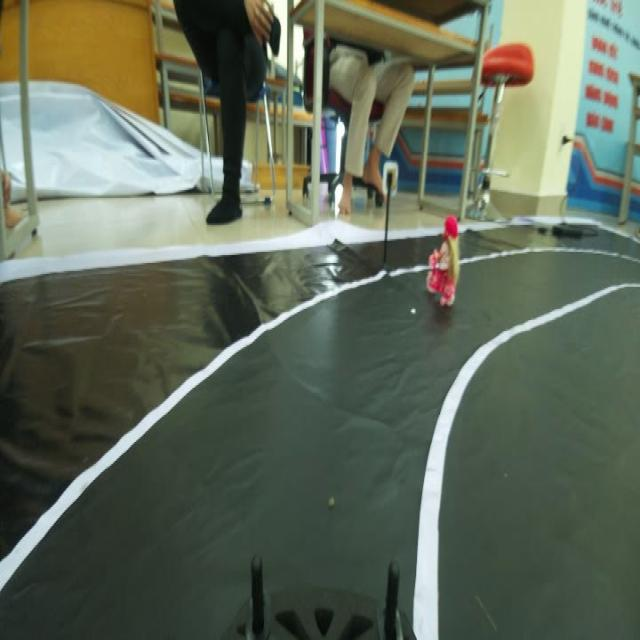pedestrian: (427, 212, 459, 320)
